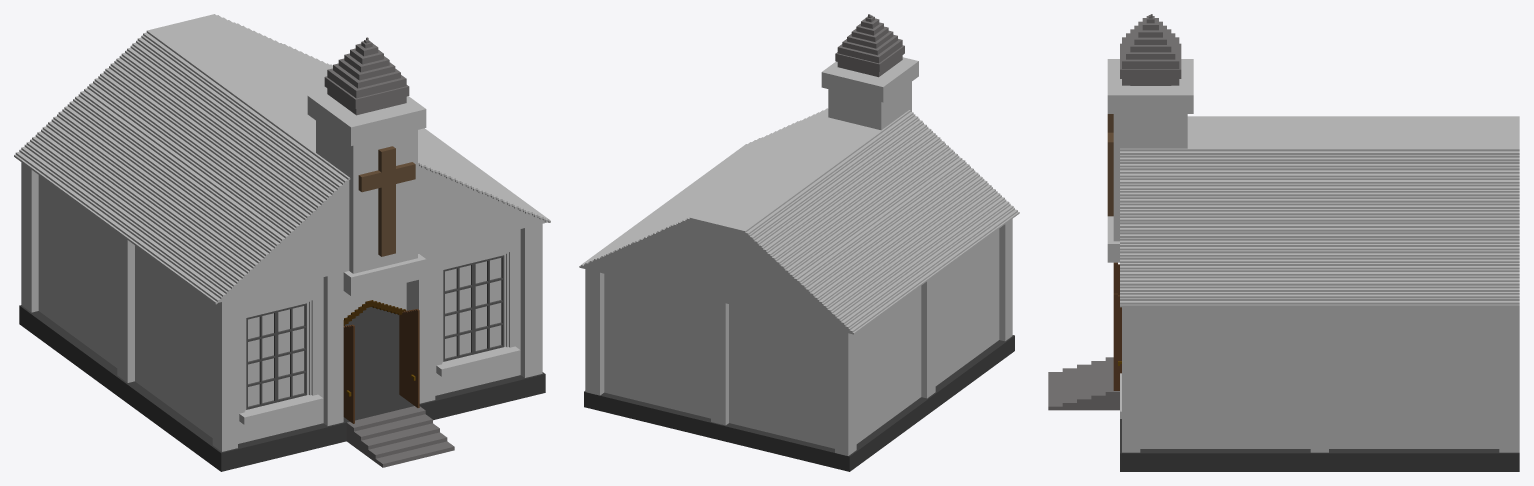
The model's file is Igreja Ext.obj.
3 views of the same model, side by side, from view 1: azimuth 30°, elevation 25°; view 2: azimuth 150°, elevation 25°; view 3: azimuth 270°, elevation 25° (orthographic). The views are drawn at different scales.
Size of the model in its own units: 18.7 by 20.4 by 23.
Materials: 1 (1 with a texture image).
